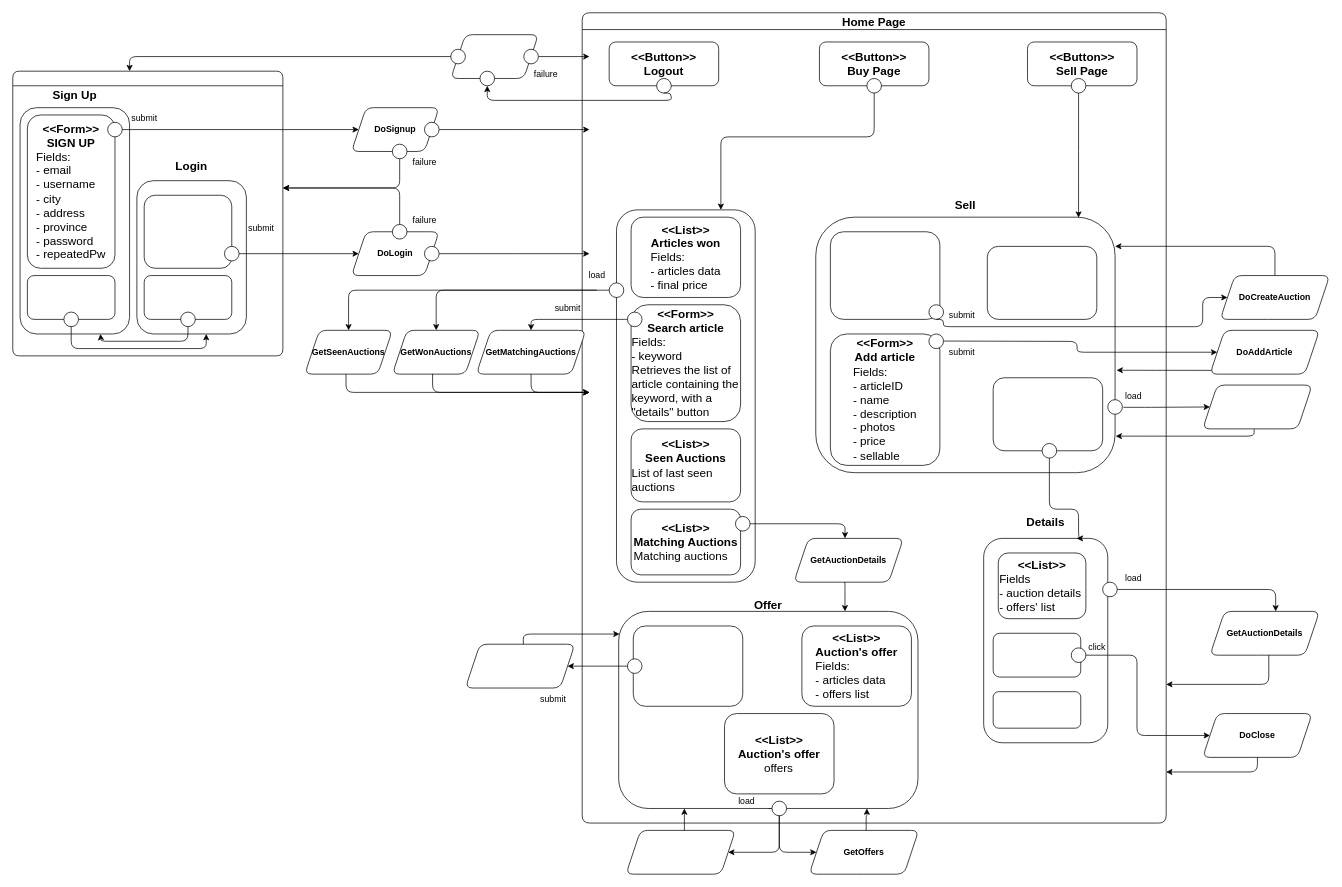
The diagram is 1342 pixels wide and 887 high, and some of its shapes have lost their labels. Each missing label, with the box of its shape:
<<Button>> Close: (992, 633, 1081, 677)
<<Button>> Login: (27, 275, 115, 319)
<<Button>> Register: (143, 275, 232, 319)
<<Form>> Create auction Fields - articles checkbox - rise - expiry: (830, 231, 940, 319)
<<Form>> LOGIN Fields: - email - password: (143, 195, 232, 268)
<<Form>> Make offer Fields: - price - submit button: (633, 625, 743, 706)
<<List >> Active auctions List of actives auctions with "detail" buttons: (992, 377, 1103, 451)
<<List>> Closed auctions List of closed auctions: (987, 246, 1097, 319)
Authentication Page: (12, 70, 283, 356)
Buy: (616, 209, 755, 582)
DoLogout: (450, 34, 538, 78)
DoOffer: (465, 643, 575, 688)
GetAuctions: (625, 830, 735, 874)
GetSell: (1202, 384, 1312, 429)
Winner: (992, 691, 1081, 728)
